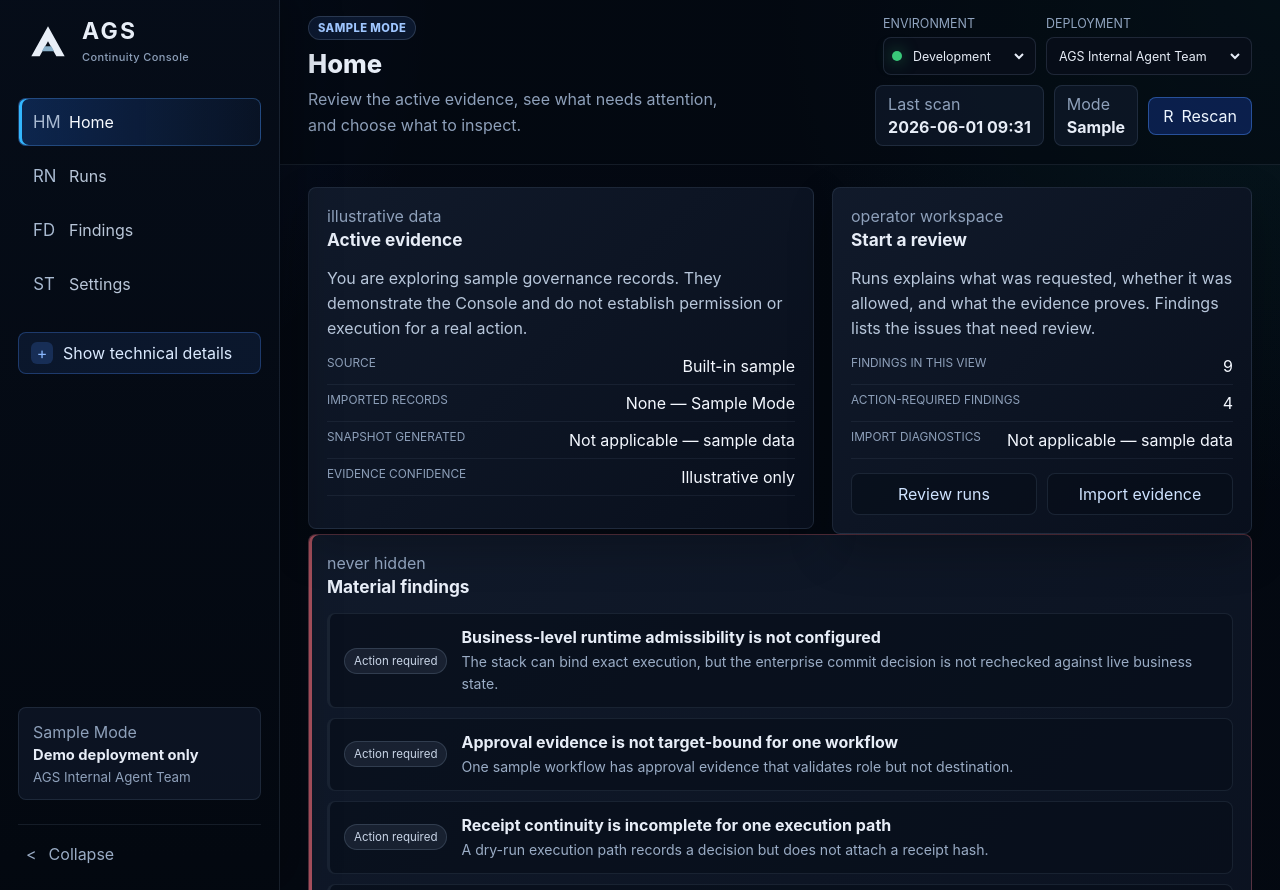
Scenario: Continuity Console operator shell › renders the Workbench sample preview without approval or execution controls
The width and height of the screenshot is (1280, 890).
Step 1. Click the button "+ Show technical details" → coordinates (140, 353), box [18,332,261,374]
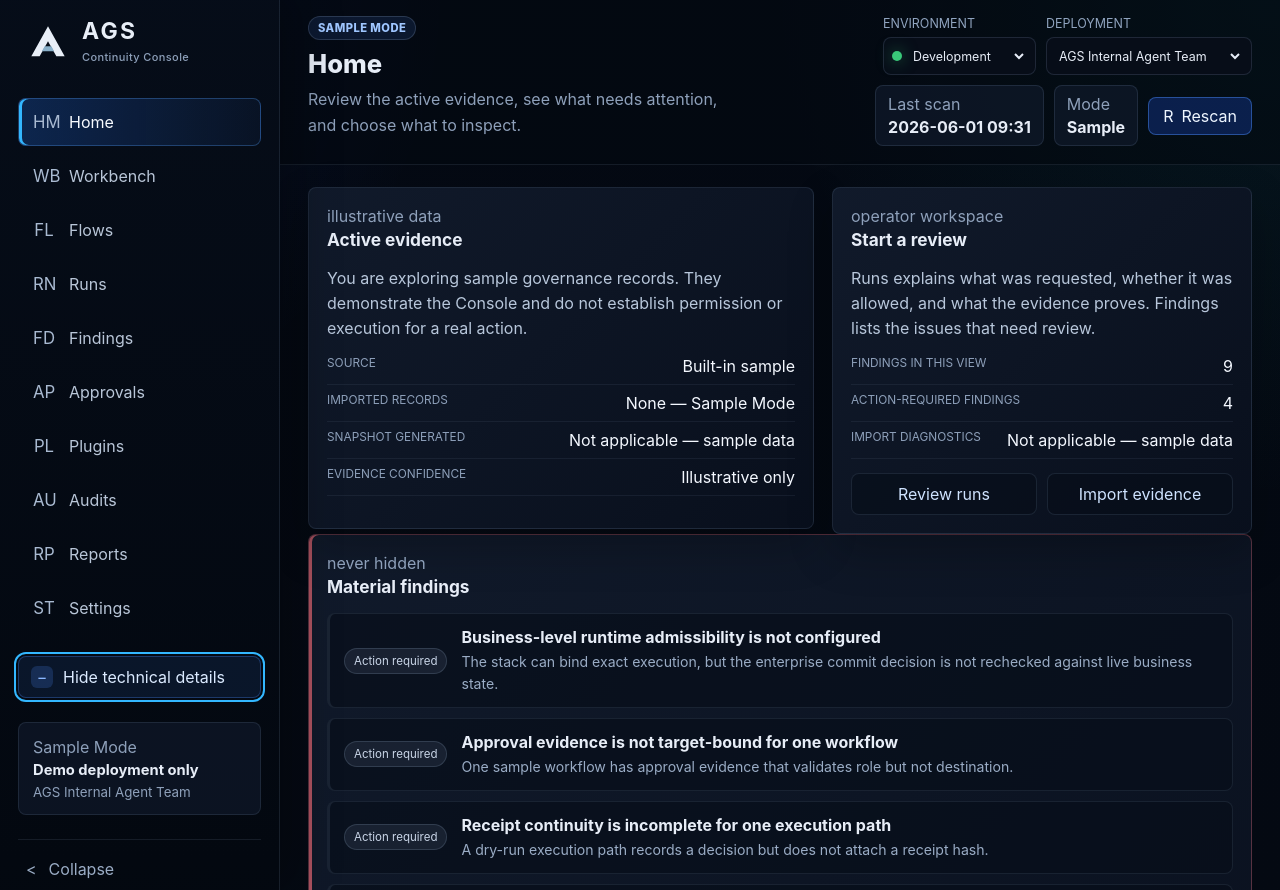
Step 2. Click the button "Workbench" → coordinates (140, 176), box [18,152,261,200]
(page scrolled)
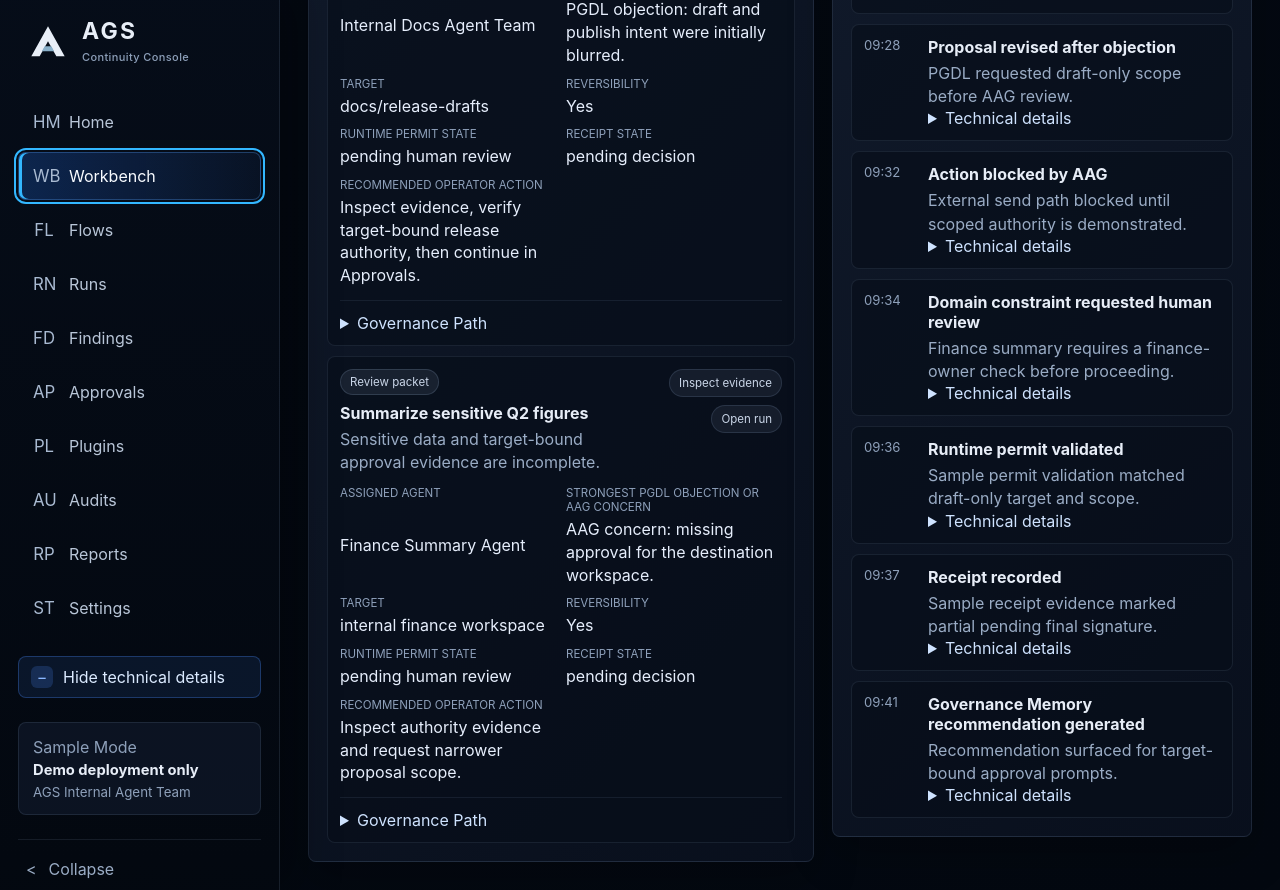
Now the heading "Governance Path" below "docs/release-drafts" is shown, box [357,313,487,333]
Now the text "Runtime permit state" below "docs/release-drafts" is shown, box [340,127,477,141]
Now the text "pending human review" below "docs/release-drafts" is shown, box [340,146,512,166]
